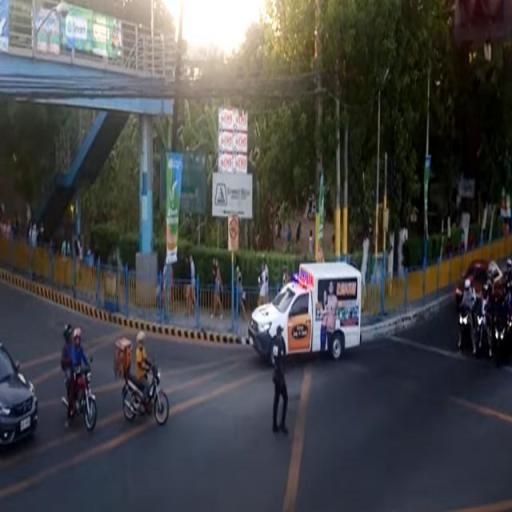Police car: (244, 262, 362, 362)
